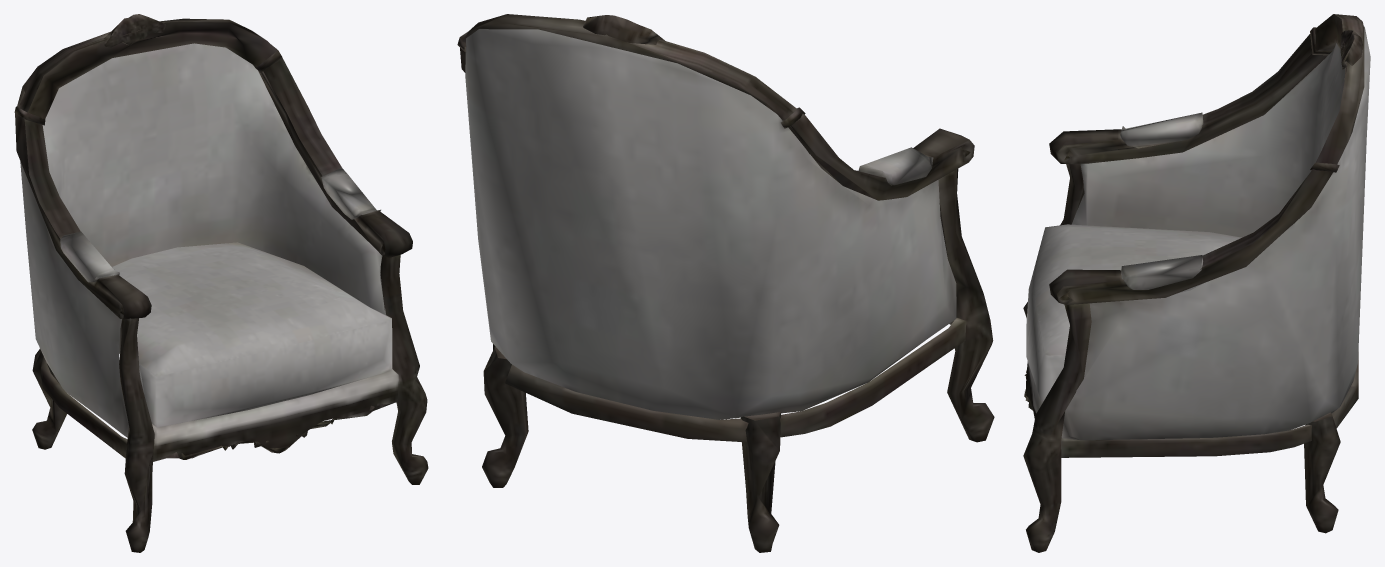
Rendered from armchair.glb.
The picture shows the model from 3 angles, left to right: view 1: azimuth 30°, elevation 25°; view 2: azimuth 150°, elevation 25°; view 3: azimuth 270°, elevation 25°; orthographic projection. The views are drawn at different scales.
Visible parts, largest first — view 1: ArmChair_01; view 2: ArmChair_01; view 3: ArmChair_01.
Part boxes in pixels (x1,y1,x2,y2): ArmChair_01: (14, 14, 428, 552); ArmChair_01: (457, 14, 994, 552); ArmChair_01: (1023, 14, 1370, 552).
Bounding box in the file's own units: 0.8483 × 1.06 × 0.7622.
Materials: 1 (1 with a texture image).
